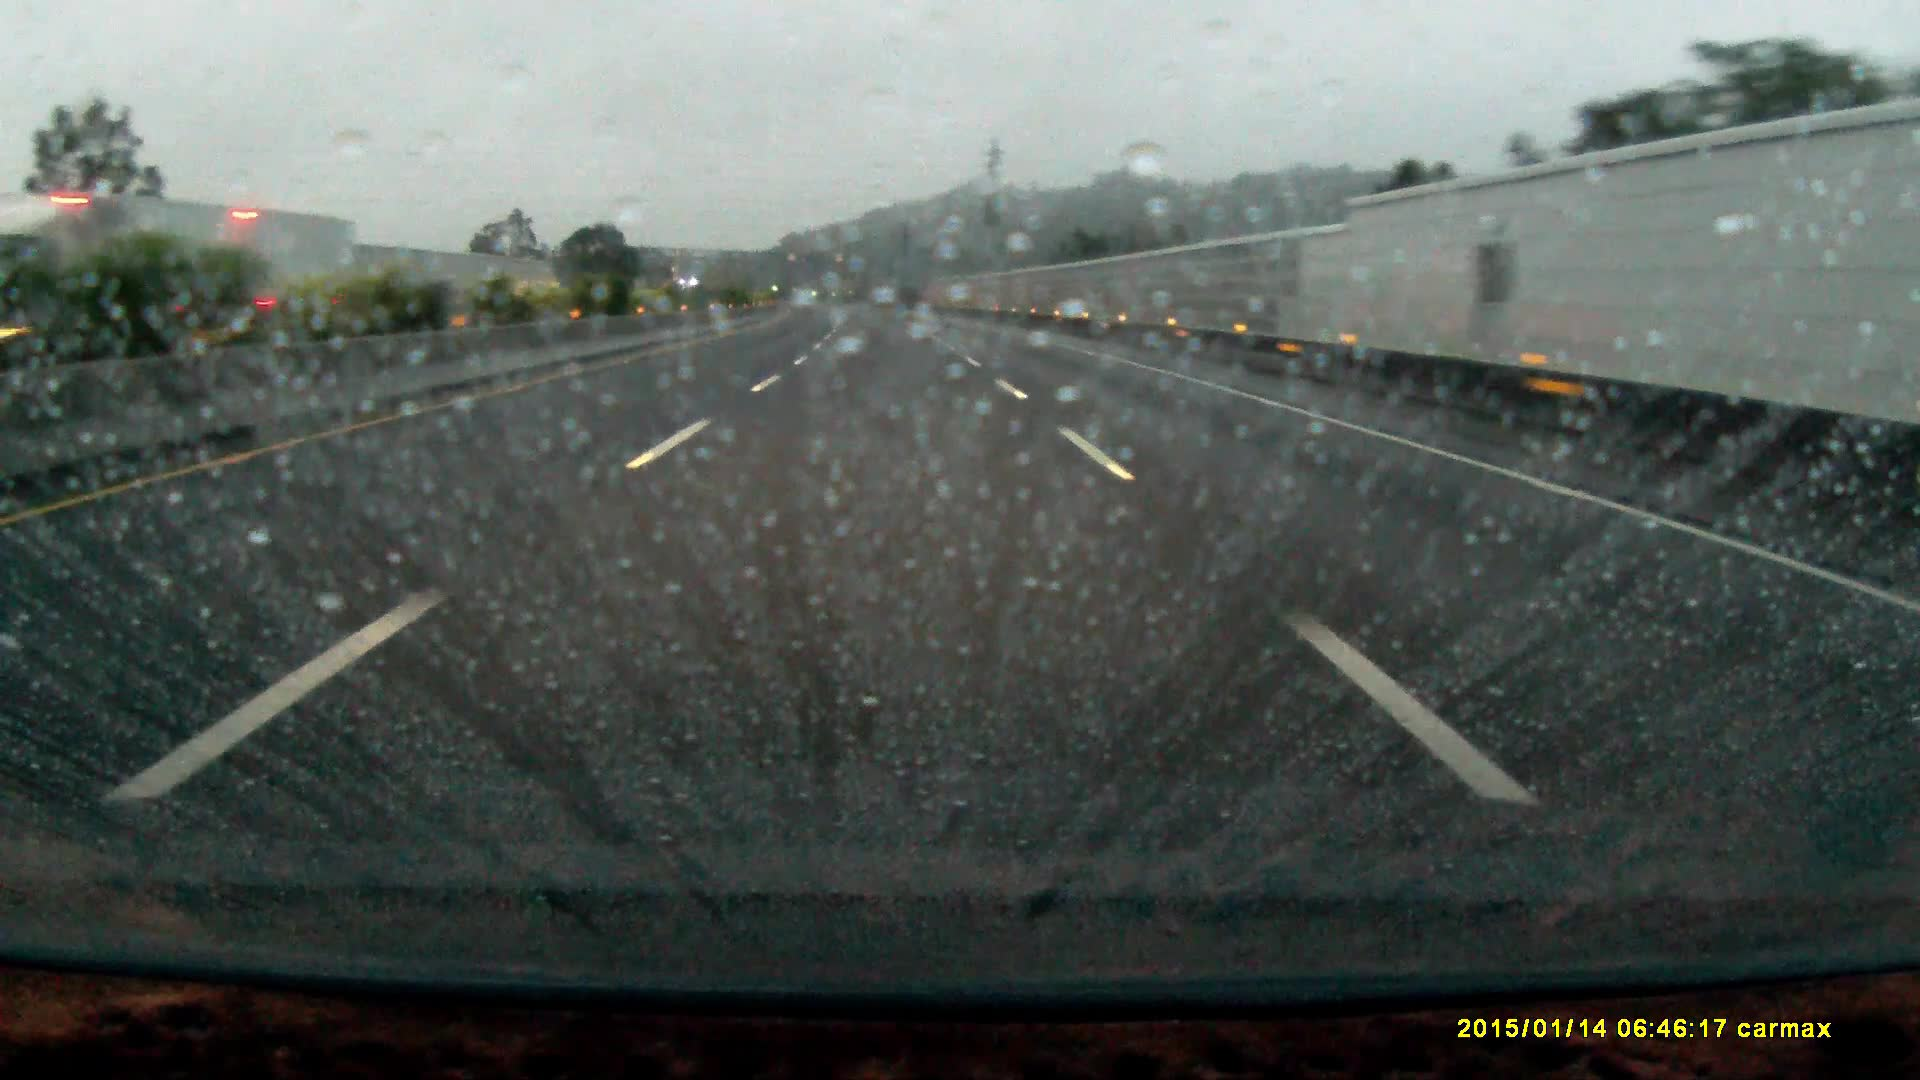vehicle: (24, 202, 323, 340)
